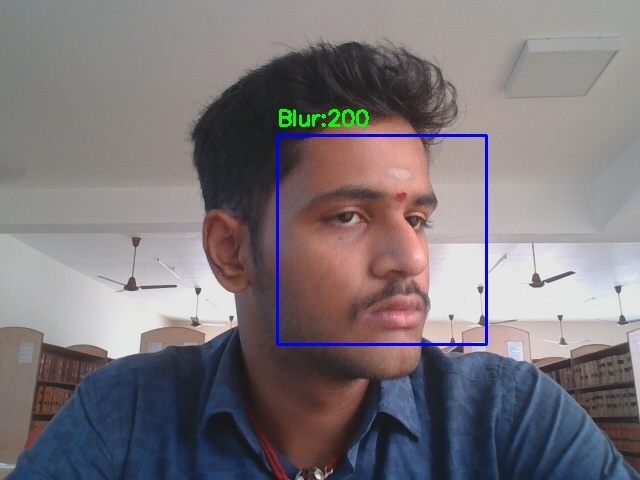real: (277, 135, 486, 344)
